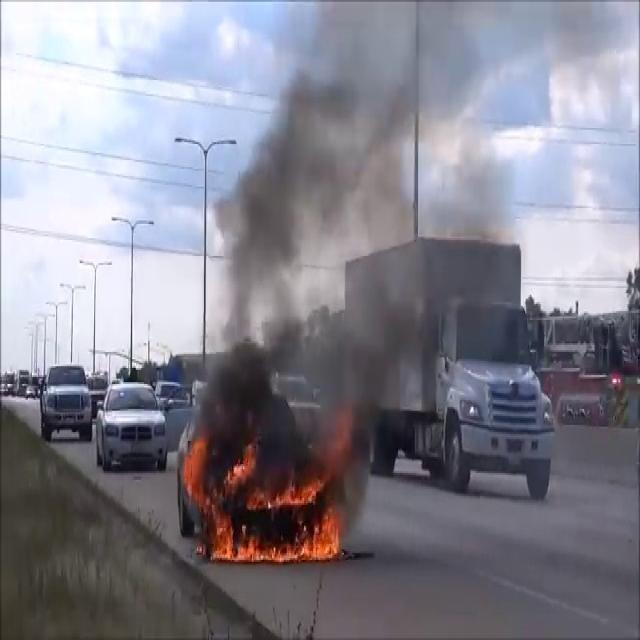Fire: (182, 438, 346, 566)
Smoke: (197, 9, 517, 457)
